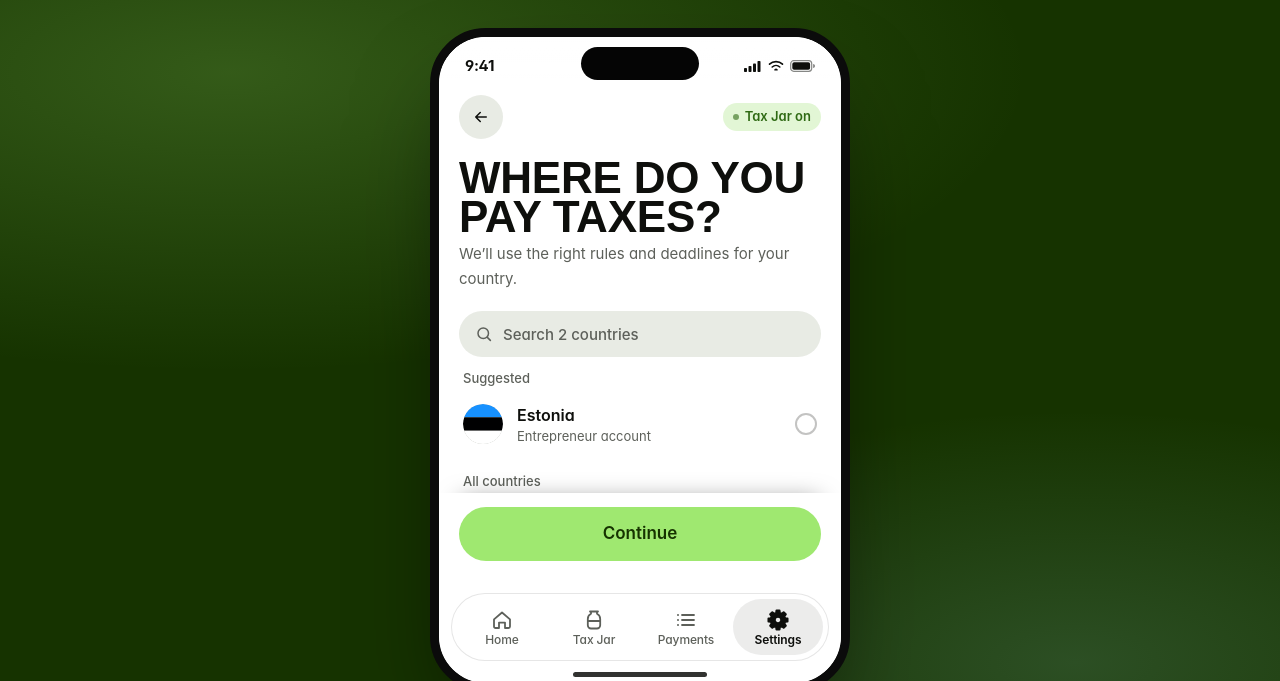
Test: the arrow on the country list steps back to the summary and drops the half-made pick
Earlier steps of the test are not shown.
Later steps or results of the test are not shown.
What coordinates should you click on to do the following:
click the button named "Back"
I would click on:
 (481, 117)
Its box is left=459, top=95, right=503, bottom=139.
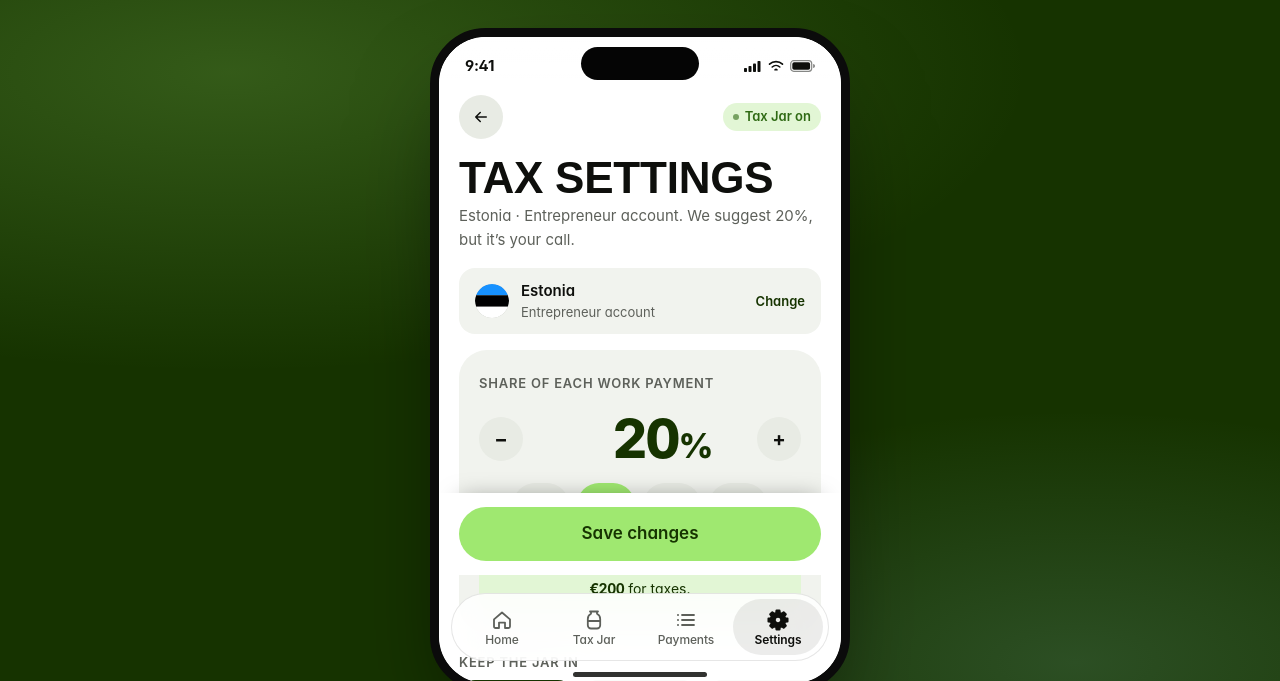
expect the heading "Tax settings" is shown: met, box left=459, top=159, right=821, bottom=198
